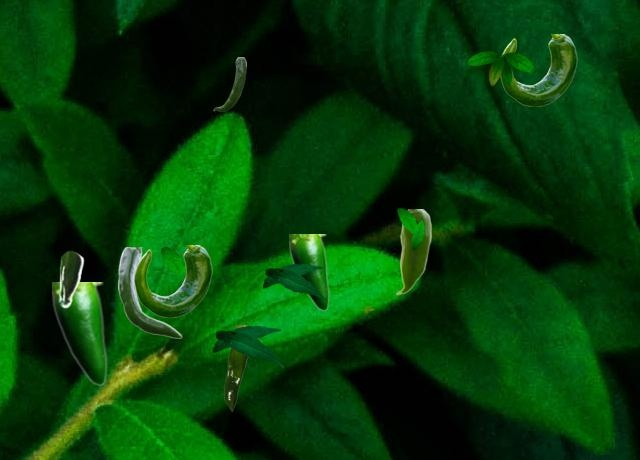green_chili: (118, 247, 181, 337), (52, 282, 106, 385), (134, 245, 211, 316), (500, 34, 576, 105), (395, 209, 430, 294), (289, 234, 328, 310), (224, 325, 250, 410), (213, 57, 245, 110), (57, 250, 83, 307)
